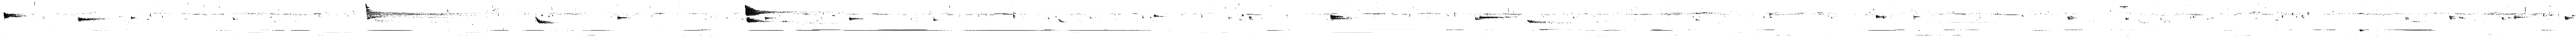meteor: (365, 3, 452, 21), (744, 3, 787, 16), (744, 16, 772, 25), (3, 11, 25, 20), (536, 16, 555, 25), (1329, 13, 1354, 20), (77, 16, 103, 21), (1479, 16, 1508, 20), (848, 16, 866, 21), (1528, 20, 1546, 23), (764, 16, 777, 20), (616, 16, 628, 20), (2067, 16, 2078, 20), (1058, 18, 1065, 23), (2564, 16, 2573, 20)
